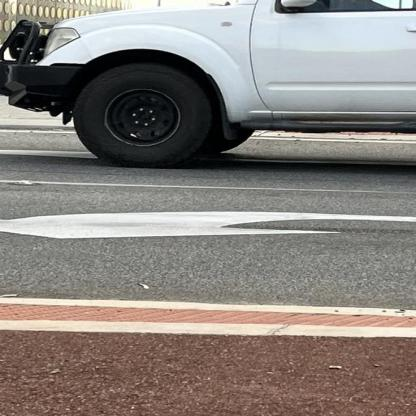Tire: (74, 63, 212, 168)
